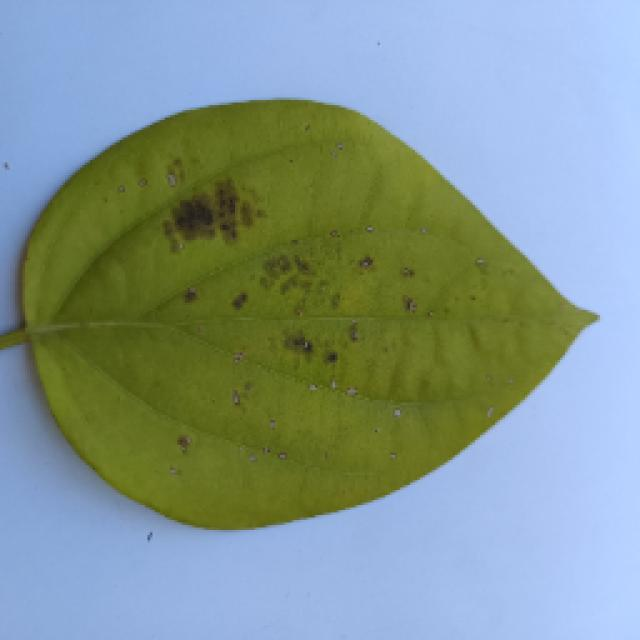slow-decline: (0, 97, 600, 535)
